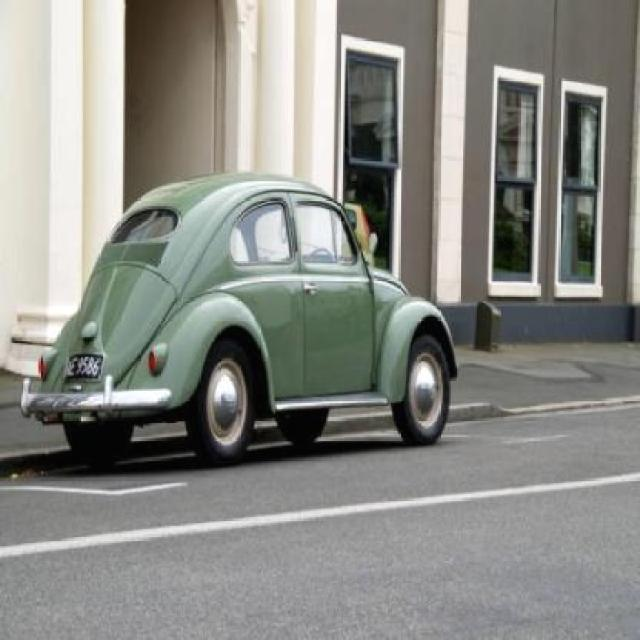car: (16, 182, 459, 442)
